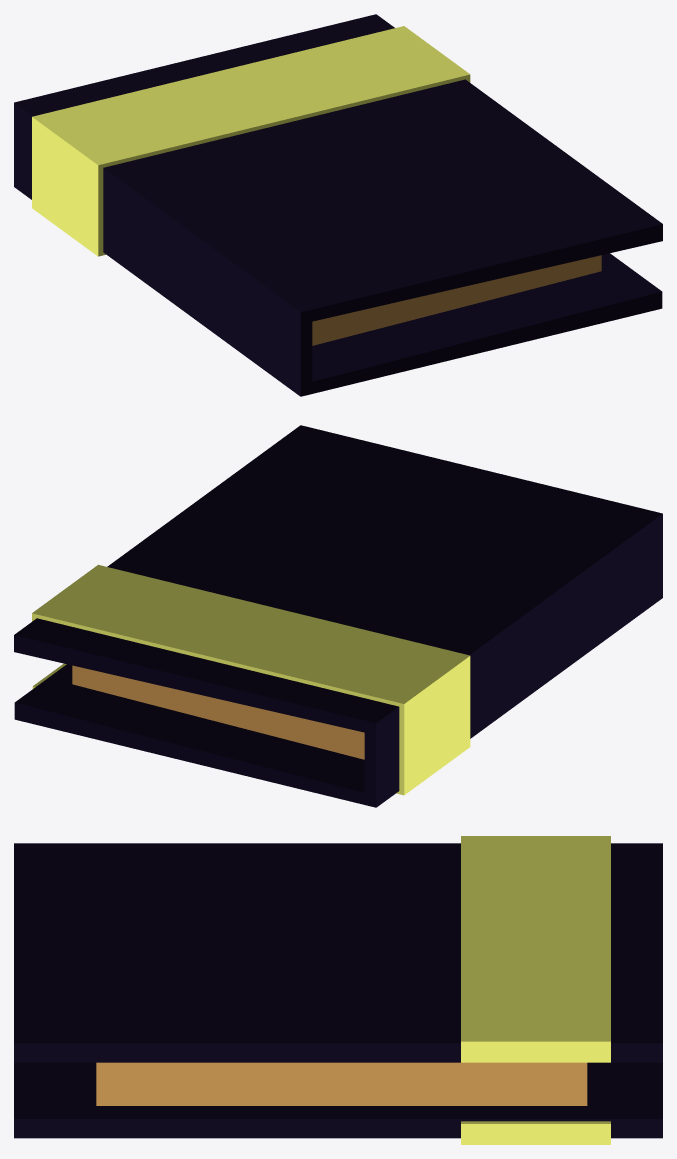
The model's file is Notebook 3.fbx.
The picture shows the model from 3 angles, top to bottom: view 1: azimuth 30°, elevation 25°; view 2: azimuth 150°, elevation 25°; view 3: azimuth 270°, elevation 25°; orthographic projection. The views are drawn at different scales.
Visible parts, largest first — view 1: Node 0; view 2: Node 0; view 3: Node 0.
Part boxes in pixels (x1,y1,x2,y2): Node 0: (14,14,662,396); Node 0: (14,425,662,807); Node 0: (14,836,662,1144).
Size of the model in its own units: 0.3165 by 0.0557 by 0.2373.
